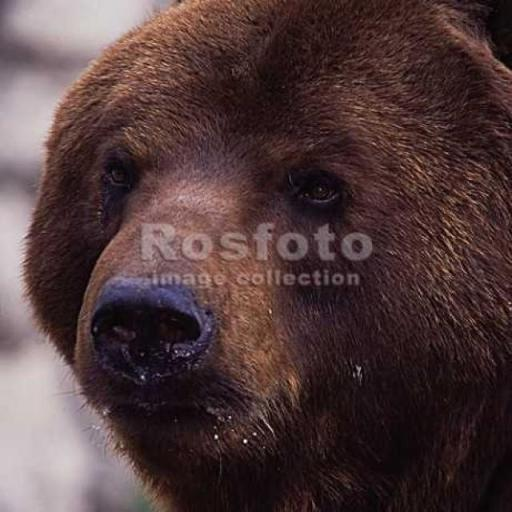Bear: (19, 0, 511, 511)
